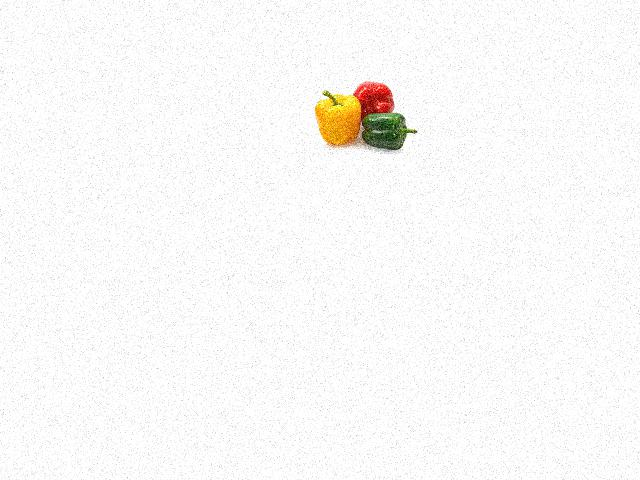bell_pepper: (352, 107, 412, 150)
